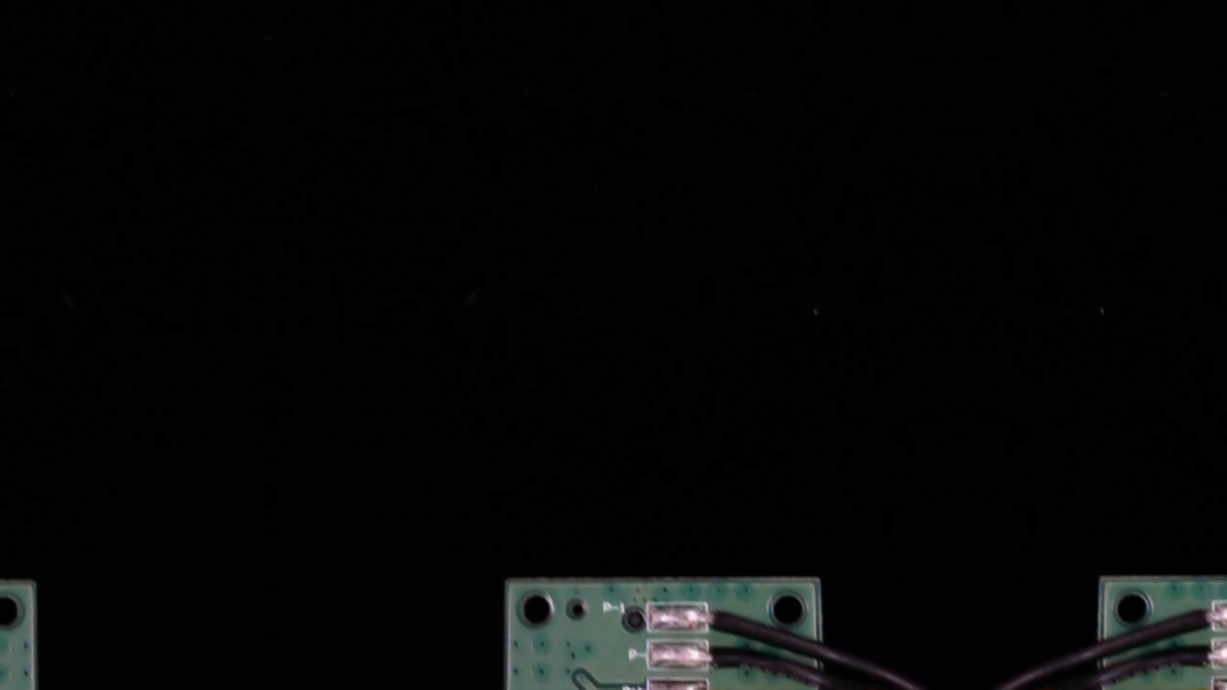Black: (691, 641, 751, 671), (1169, 639, 1227, 669)
Black1: (688, 599, 752, 631), (1166, 598, 1227, 630)
Yellow: (1156, 677, 1227, 690), (692, 678, 763, 690)
